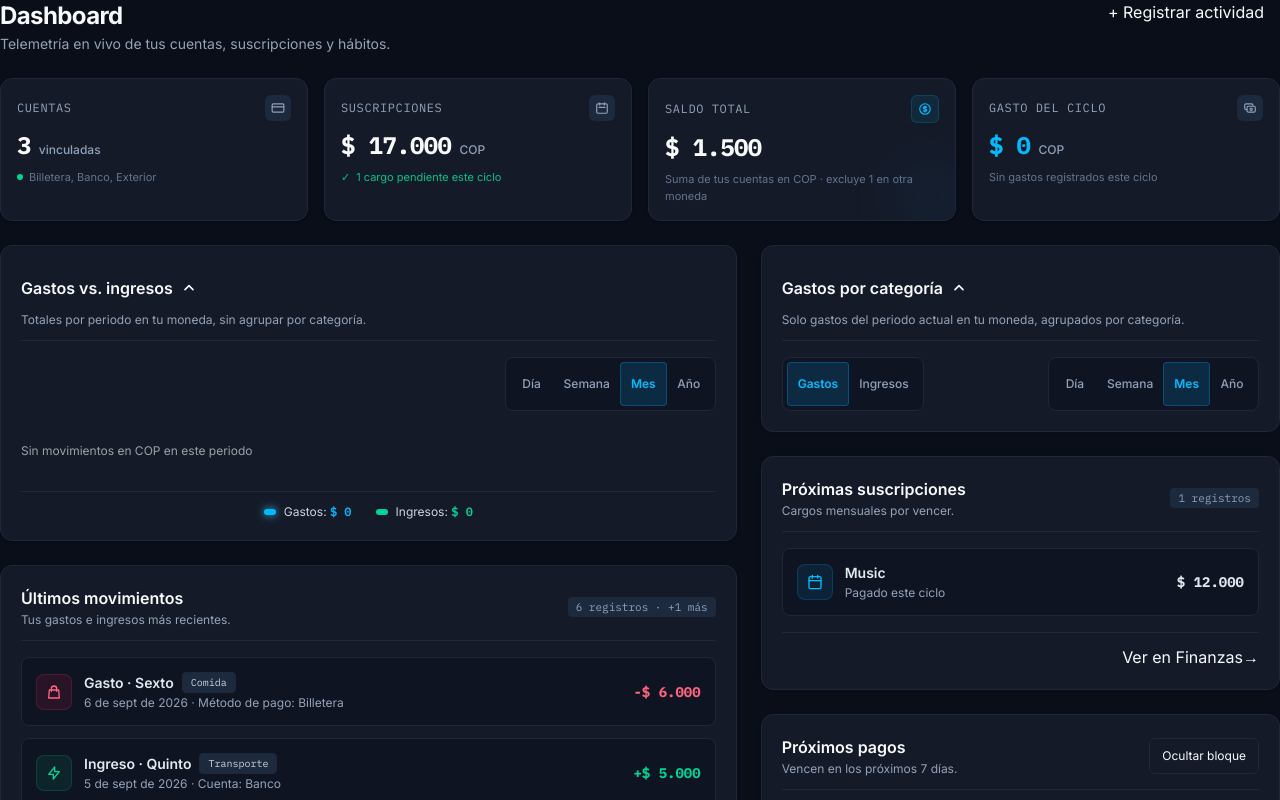
DashboardHome chart disclosures W4 › collapses and reopens each chart disclosure independently
Click the button "Gastos vs. ingresos": (109, 288) [21,266,197,310]
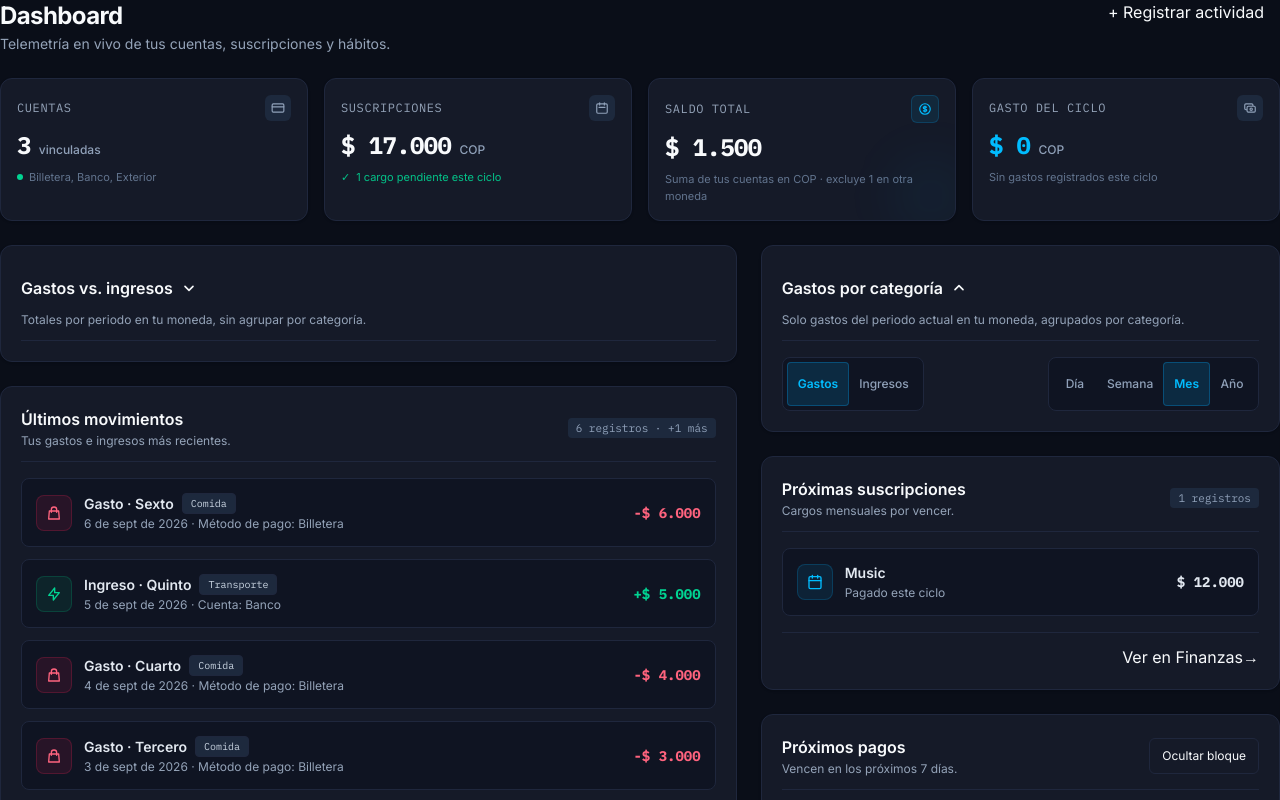
Expected: the button "Gastos vs. ingresos" is collapsed, [21,266,197,310]
Click the button "Gastos por categoría": (874, 288) [782,266,967,310]
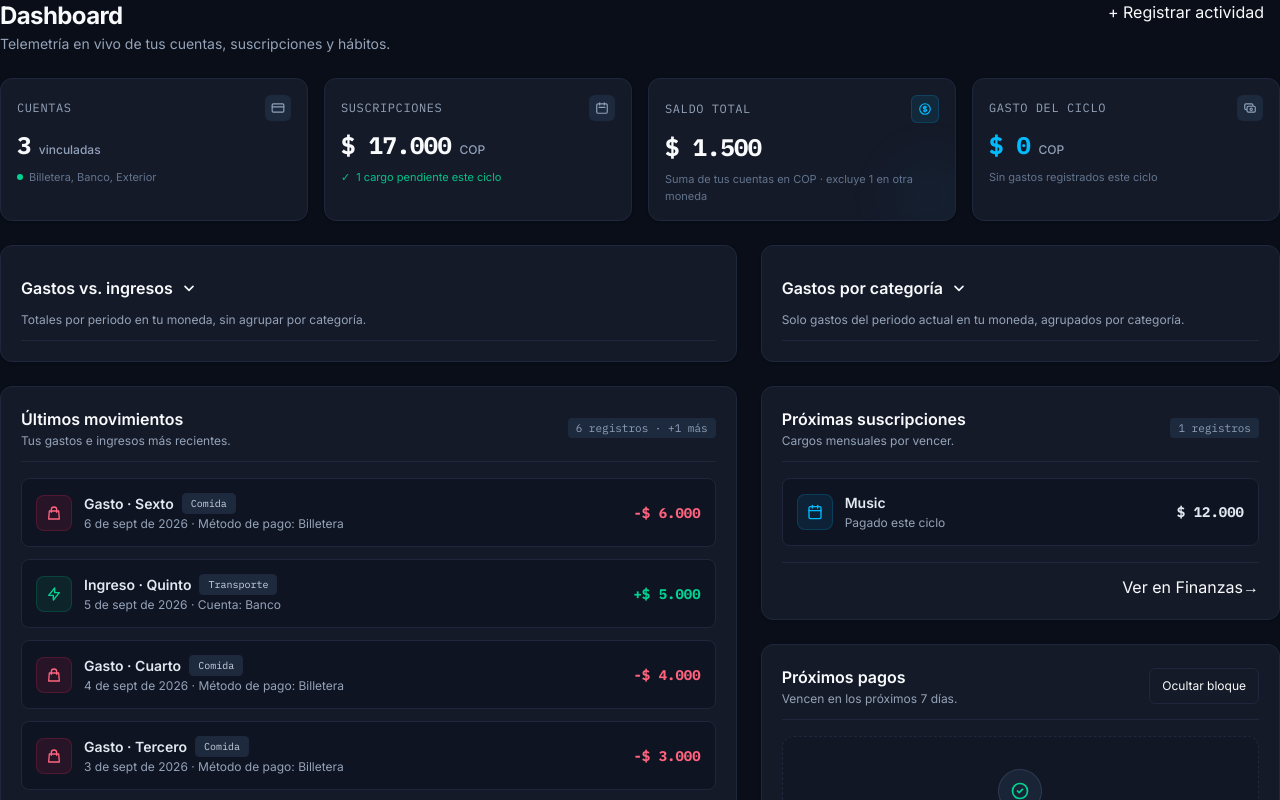
Expected: the button "Gastos vs. ingresos" is collapsed
Expected: the button "Gastos por categoría" is collapsed, [782,266,967,310]
Click the button "Gastos vs. ingresos": (109, 288) [21,266,197,310]
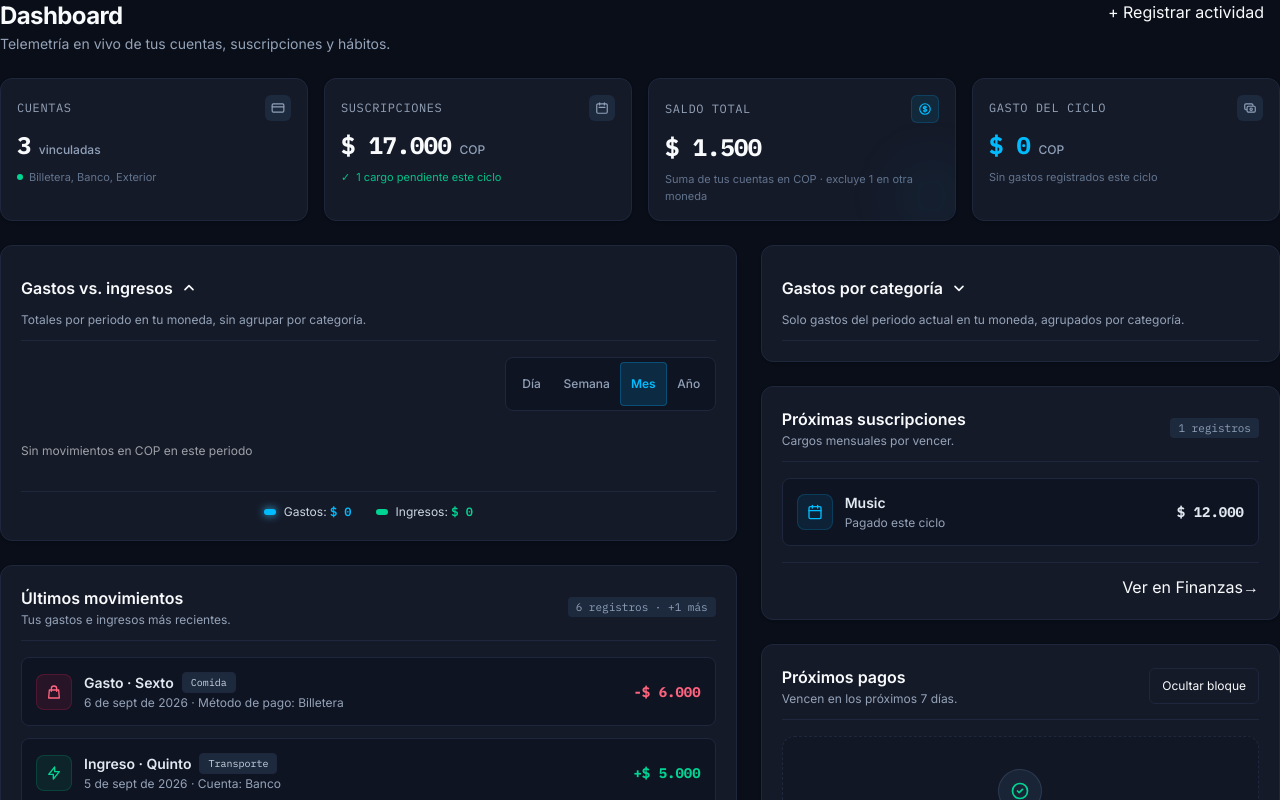
Expected: the button "Gastos por categoría" is collapsed, [782,266,967,310]
Expected: the button "Gastos vs. ingresos" is expanded, [21,266,197,310]
